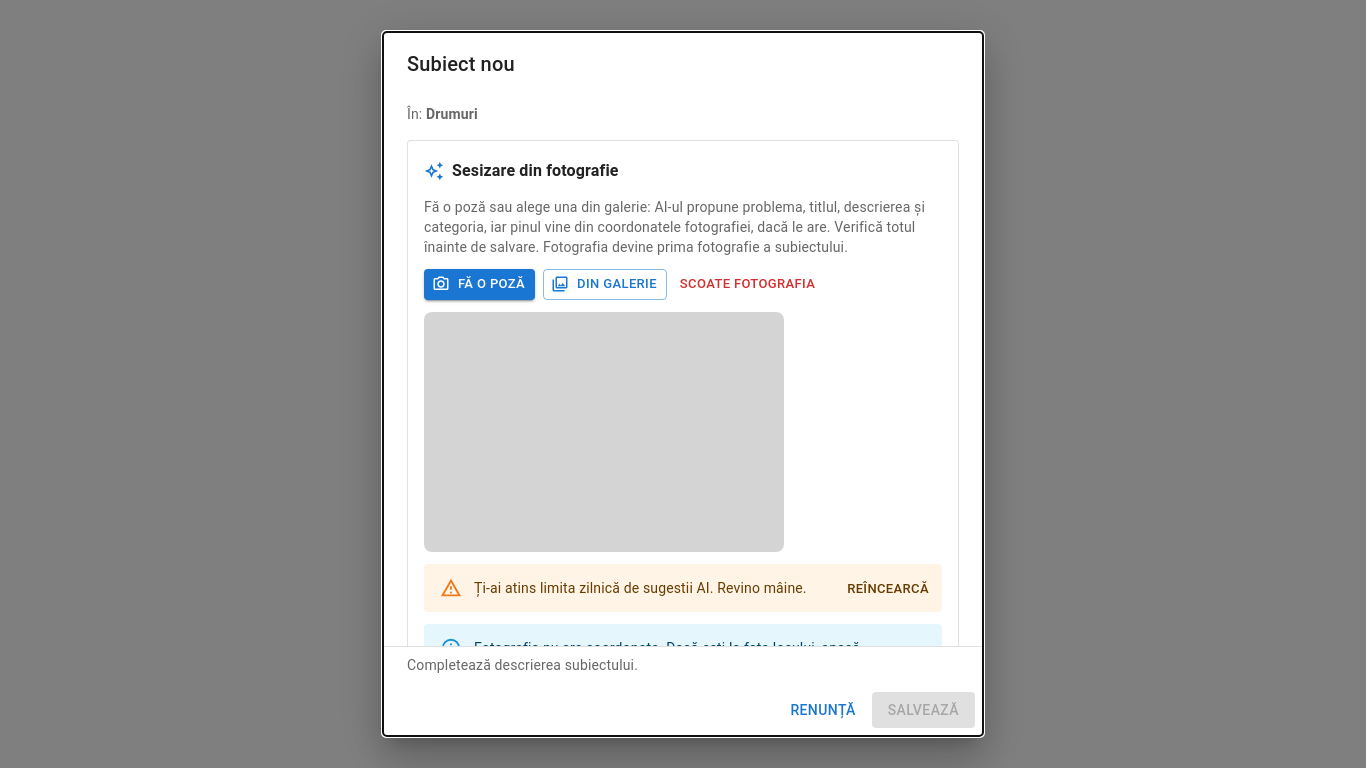
Test: admin: textul scris deja rămâne; fără GPS se cere pinul; eroarea AI se poate reîncerca
The image size is (1366, 768).
Earlier steps of the test are not shown.
Expected: the text "Ți-ai atins limita zilnică de sugestii AI. Revino mâine." is shown, [474, 580, 807, 596]
Step 1. Click the button "Reîncearcă" → (888, 589), box [842, 574, 934, 605]
(page scrolled)
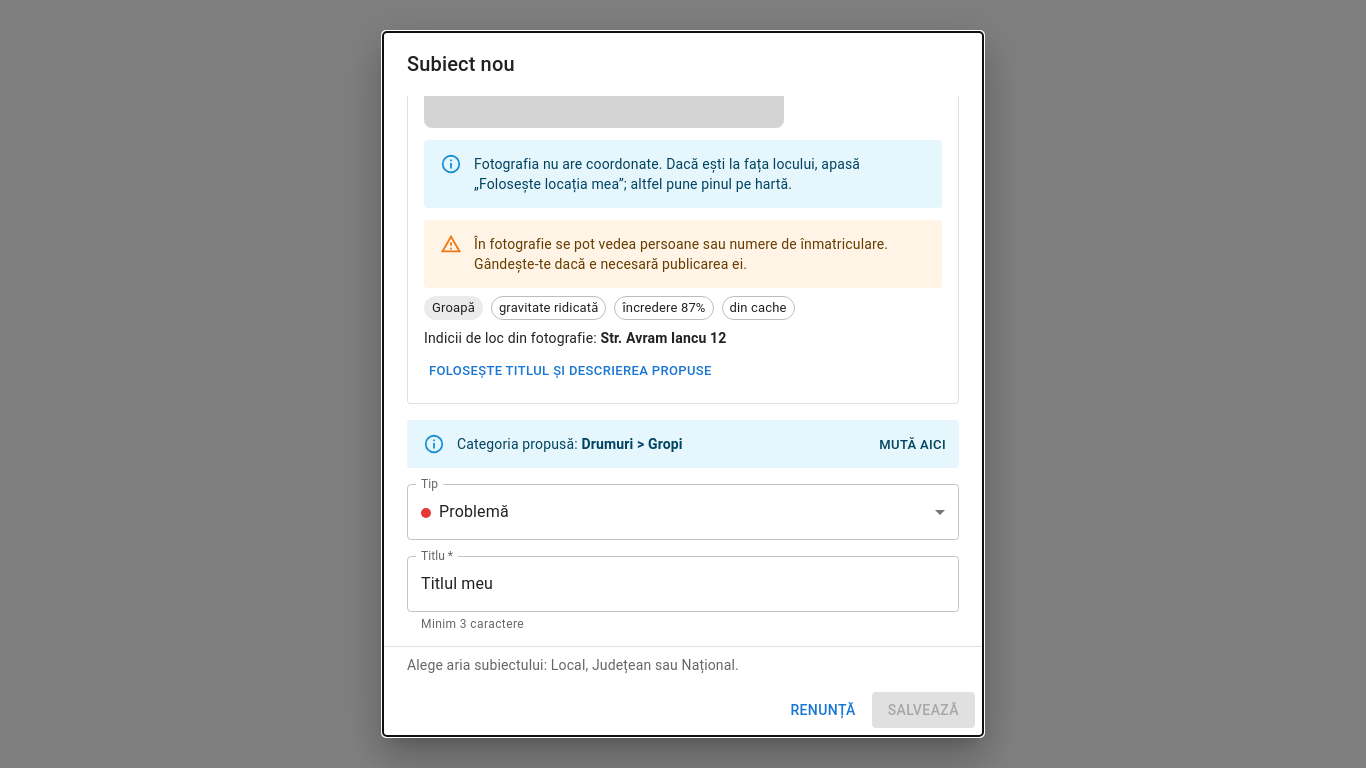
Expected: the text "din cache" is shown, [730, 300, 786, 315]
Expected: the field showing "Titlul meu" is shown, [407, 556, 959, 612]
Step 2. Click the button "Folosește titlul și descrierea propuse" → (570, 371), box [424, 356, 717, 387]
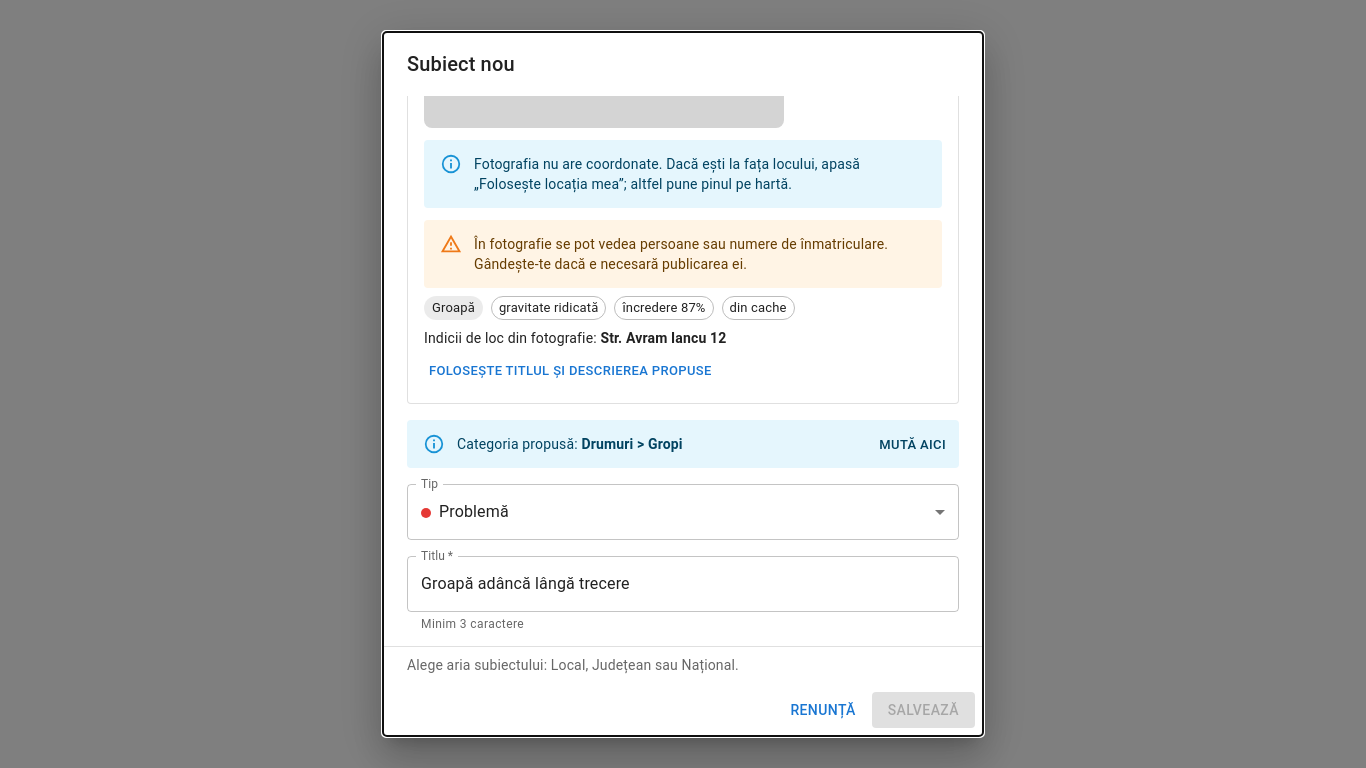
Expected: the field showing "Groapă adâncă lângă trecere" is shown, [407, 556, 959, 612]
